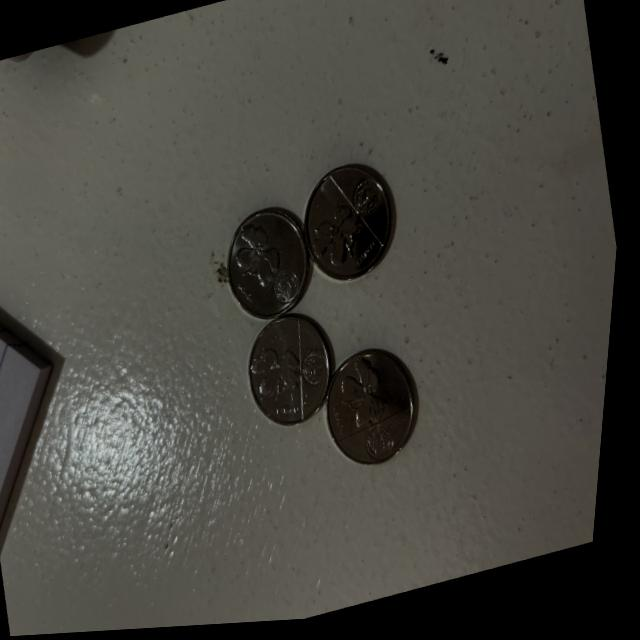25Cent_New_Back: (222, 222, 293, 312), (307, 200, 372, 286), (335, 360, 401, 444), (249, 344, 310, 413)
